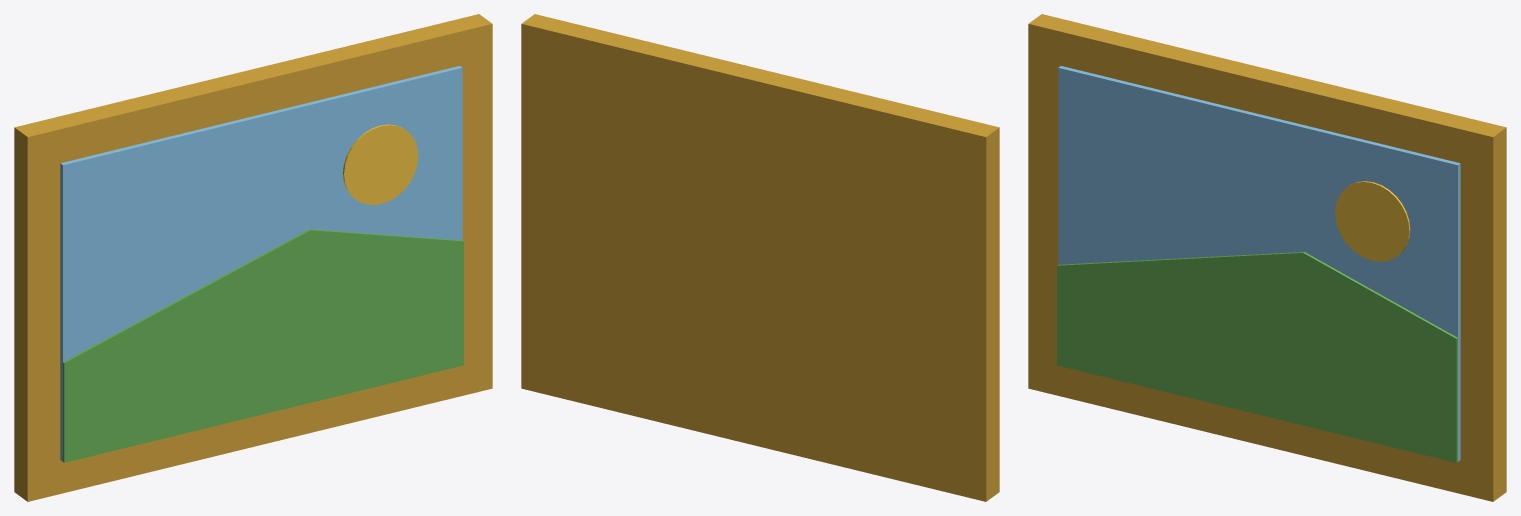
File: painting.glb
3 views of the same model, side by side, from view 1: azimuth 30°, elevation 25°; view 2: azimuth 150°, elevation 25°; view 3: azimuth 330°, elevation 25° (orthographic).
Visible parts, largest first — view 1: Frame, Sky, Hill, Sun; view 2: Frame; view 3: Frame, Sky, Hill, Sun.
Boxes of the visible parts, x1,y1,x2,y2 form: Frame: [14, 14, 492, 501]; Sky: [60, 66, 462, 461]; Hill: [63, 229, 463, 462]; Sun: [343, 124, 418, 204]; Frame: [521, 14, 999, 501]; Frame: [1028, 14, 1506, 501]; Sky: [1058, 66, 1460, 461]; Hill: [1057, 252, 1457, 462]; Sun: [1335, 181, 1410, 261].
Size of the model in its own units: 1 by 0.75 by 0.068.
